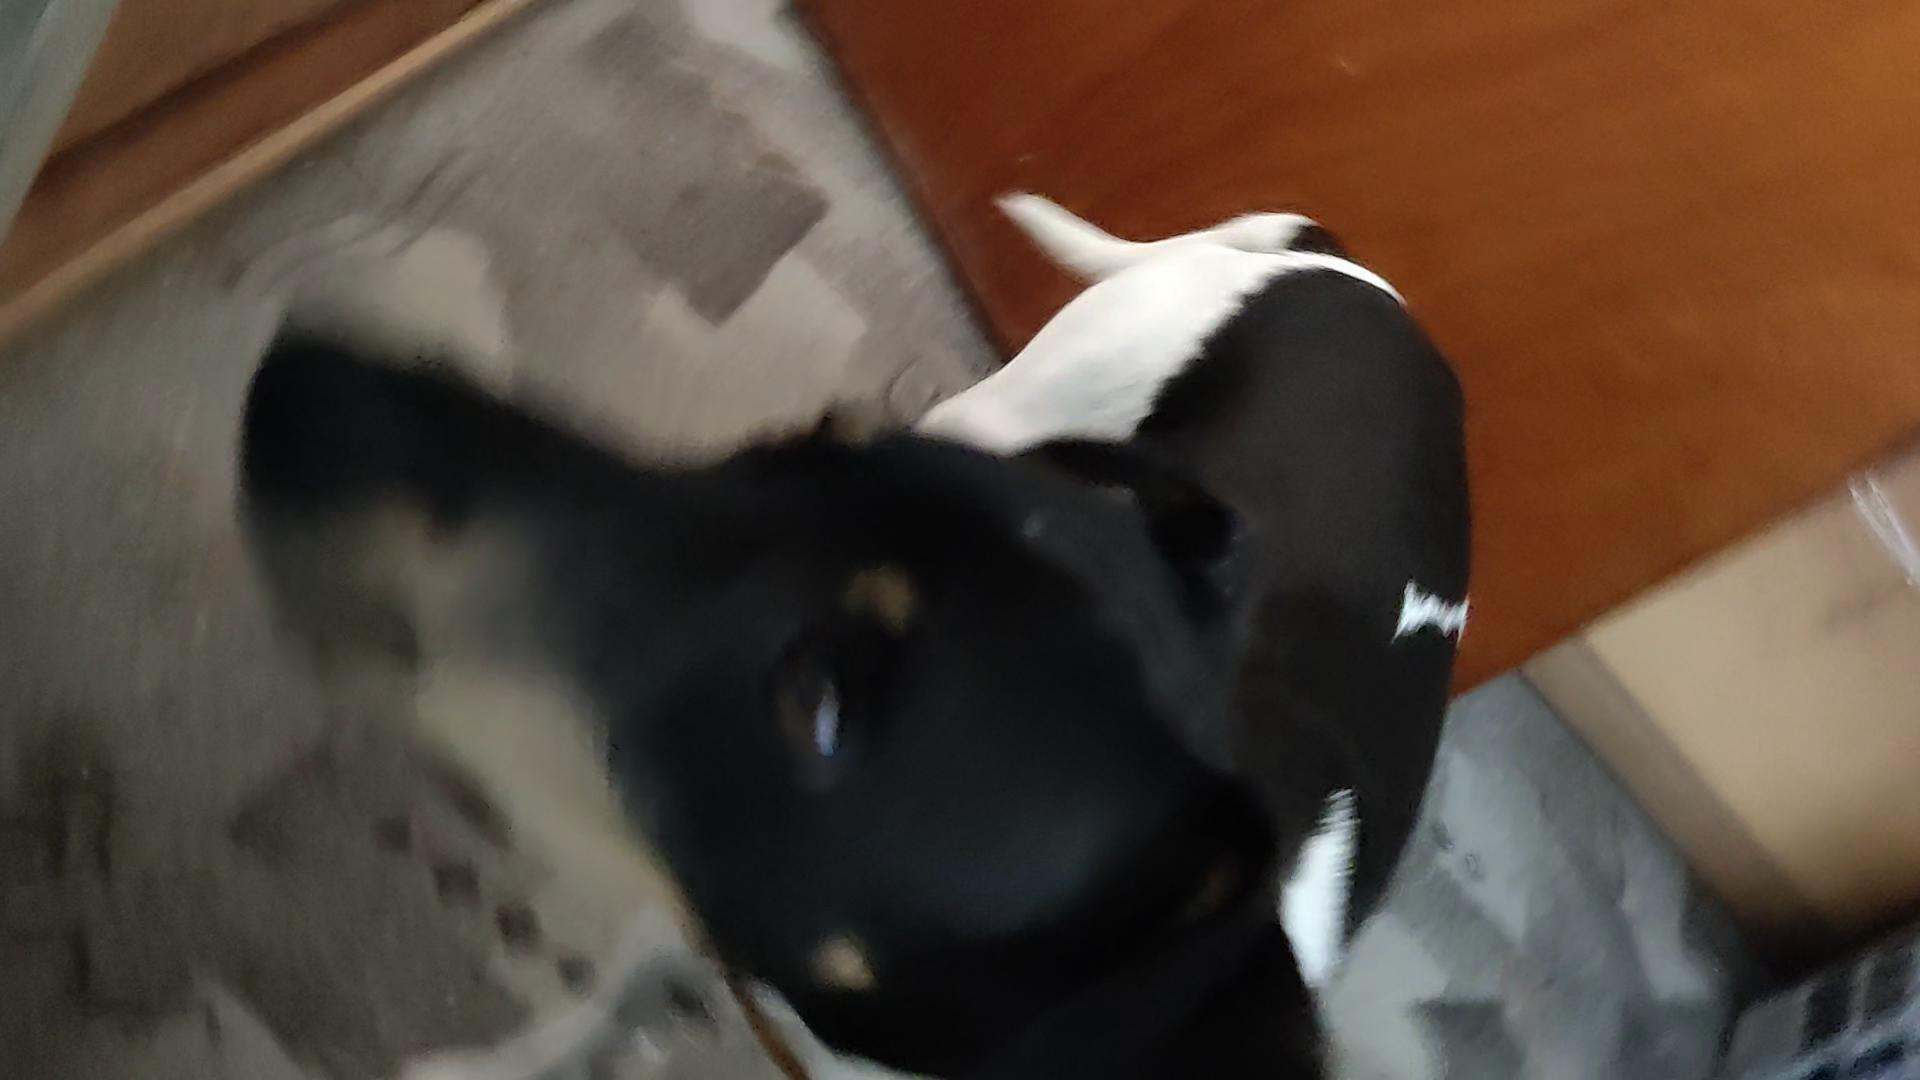Dog: (212, 154, 1506, 1079)
